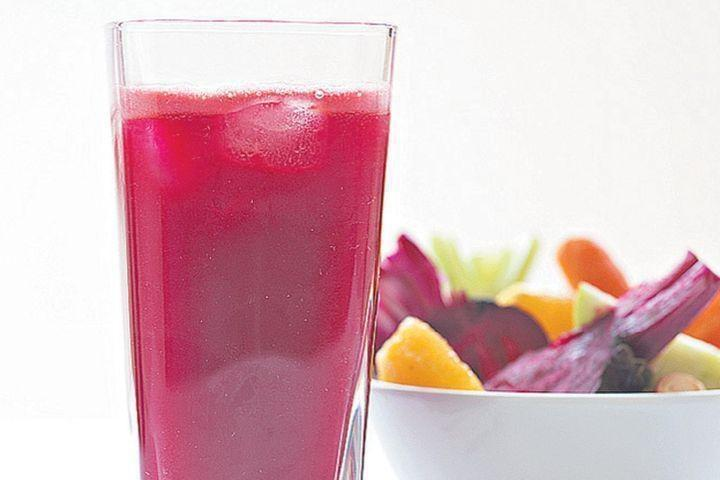glass-normal: (108, 15, 401, 478)
